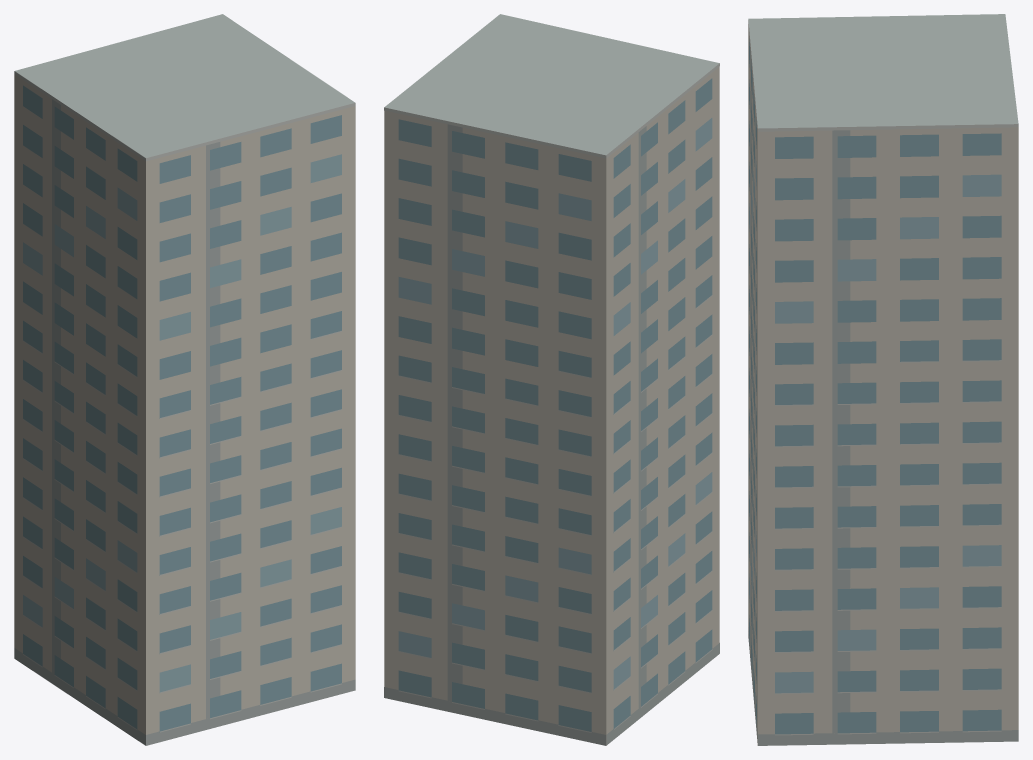
Rendered from survey-upis-32730618.glb.
The picture shows the model from 3 angles, left to right: view 1: azimuth 30°, elevation 25°; view 2: azimuth 150°, elevation 25°; view 3: azimuth 270°, elevation 25°; orthographic projection. The views are drawn at different scales.
Visible parts, largest first — view 1: survey-upis-32730618.tmp; view 2: survey-upis-32730618.tmp; view 3: survey-upis-32730618.tmp.
Part boxes in pixels (x1=…): survey-upis-32730618.tmp: x1=14, y1=14, x2=355, y2=745; survey-upis-32730618.tmp: x1=384, y1=14, x2=719, y2=745; survey-upis-32730618.tmp: x1=748, y1=14, x2=1018, y2=745.
Bounding box in the file's own units: 18.2 × 45.75 × 18.16.
